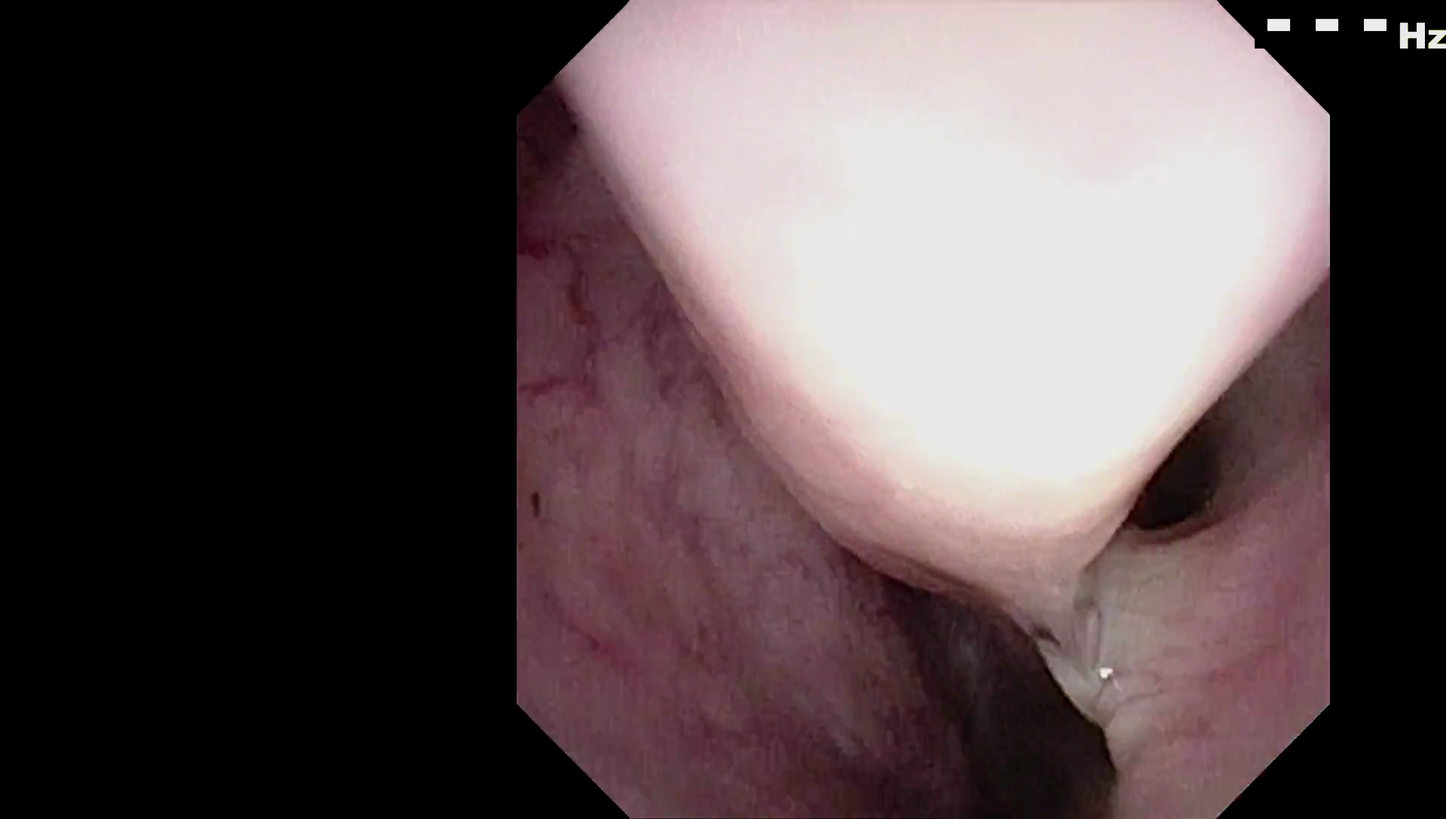close_wall: (681, 0, 1257, 544)
next: (864, 549, 1130, 819), (1105, 375, 1269, 598)
